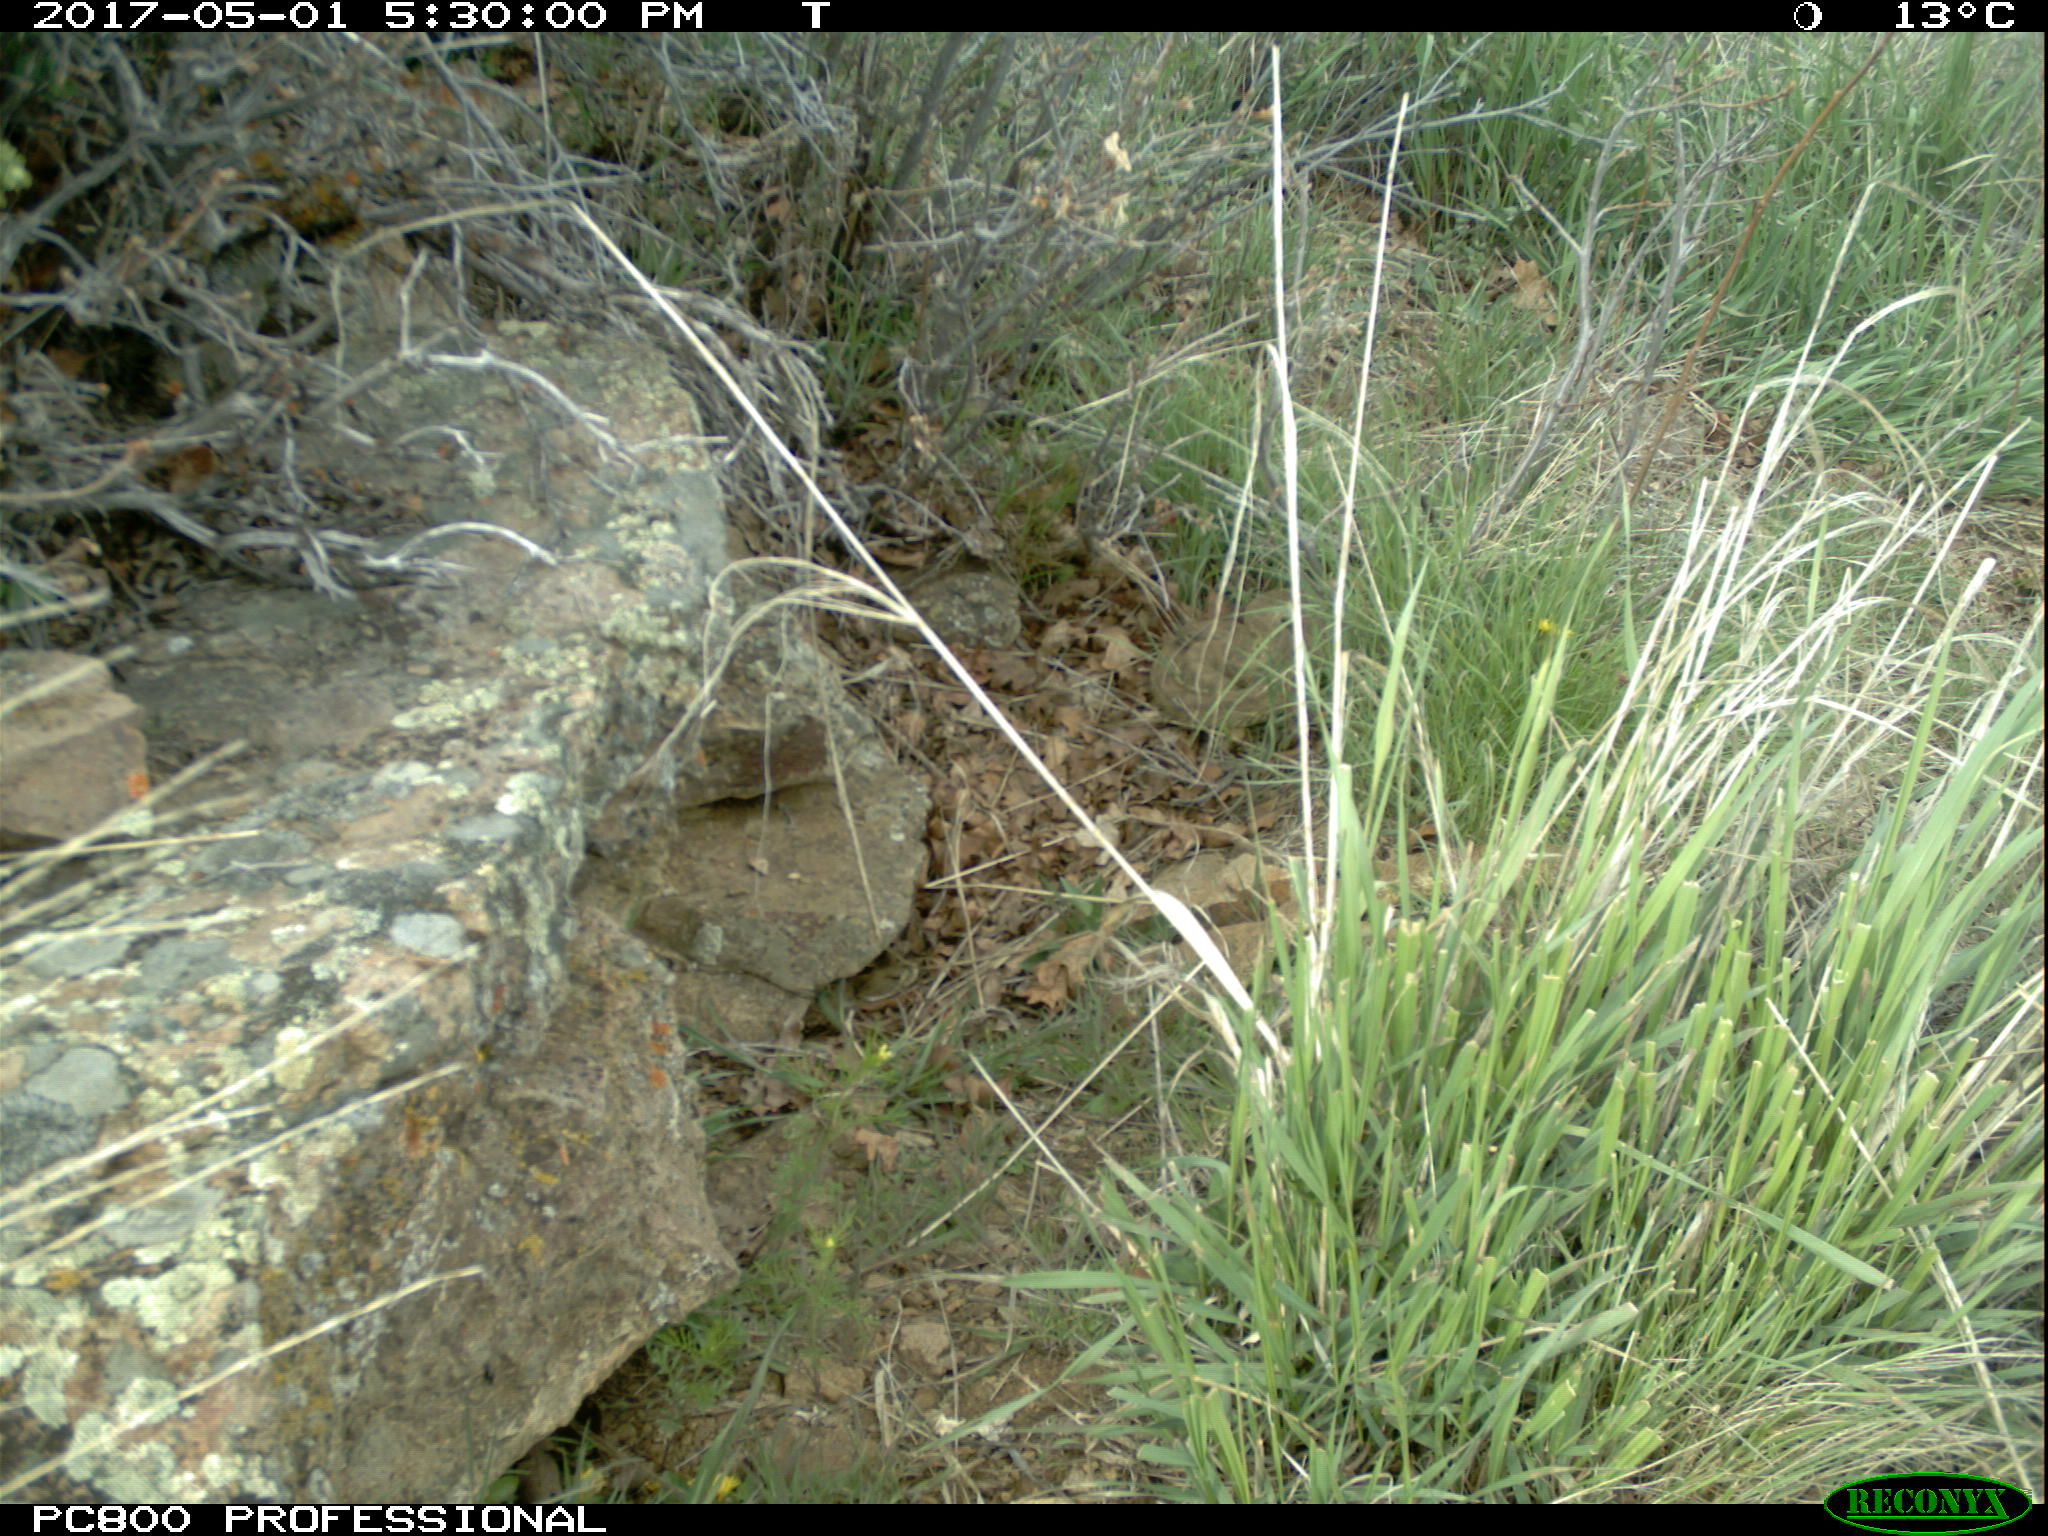snake: (1151, 607, 1330, 724)
